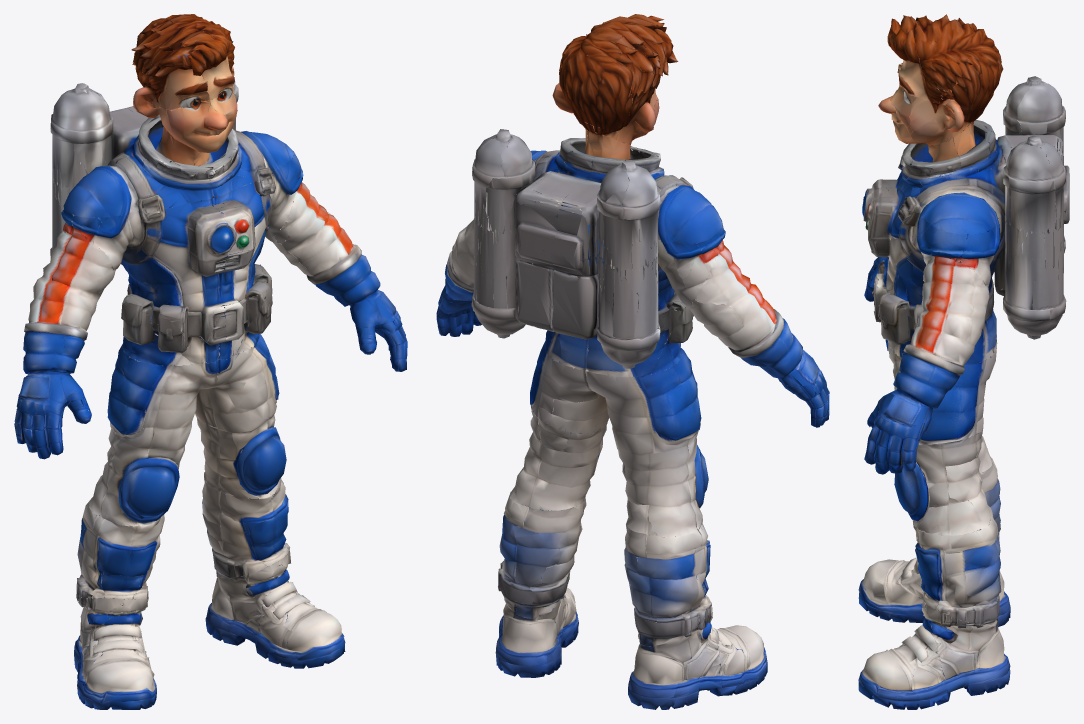
The picture shows the model from 3 angles, left to right: view 1: azimuth 30°, elevation 25°; view 2: azimuth 150°, elevation 25°; view 3: azimuth 270°, elevation 25°; orthographic projection. The views are drawn at different scales.
Visible parts, largest first — view 1: tripo_node_b0b166d2-5eb3-4af4-9ec4-75fb20c2d98f; view 2: tripo_node_b0b166d2-5eb3-4af4-9ec4-75fb20c2d98f; view 3: tripo_node_b0b166d2-5eb3-4af4-9ec4-75fb20c2d98f.
Part boxes in pixels (x1=…): tripo_node_b0b166d2-5eb3-4af4-9ec4-75fb20c2d98f: x1=14, y1=14, x2=407, y2=709; tripo_node_b0b166d2-5eb3-4af4-9ec4-75fb20c2d98f: x1=436, y1=14, x2=829, y2=709; tripo_node_b0b166d2-5eb3-4af4-9ec4-75fb20c2d98f: x1=858, y1=14, x2=1069, y2=709.
Bounding box in the file's own units: 0.6145 × 0.9797 × 0.2989.
1 material, 1 textured.
